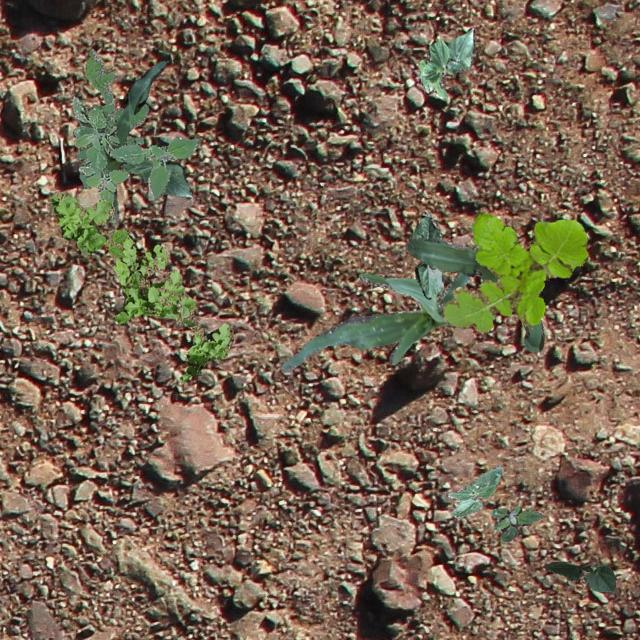crop: (280, 270, 470, 370), (406, 236, 544, 352), (103, 59, 165, 220), (416, 27, 474, 98), (118, 156, 192, 198), (446, 464, 502, 516), (412, 210, 442, 298), (544, 560, 614, 590)
weed: (49, 190, 232, 380), (442, 212, 586, 332), (72, 96, 198, 206), (72, 49, 148, 188), (490, 504, 540, 540)
